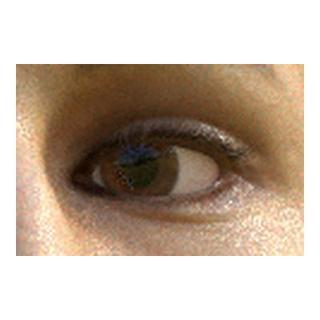pupil: (118, 147, 158, 187)
